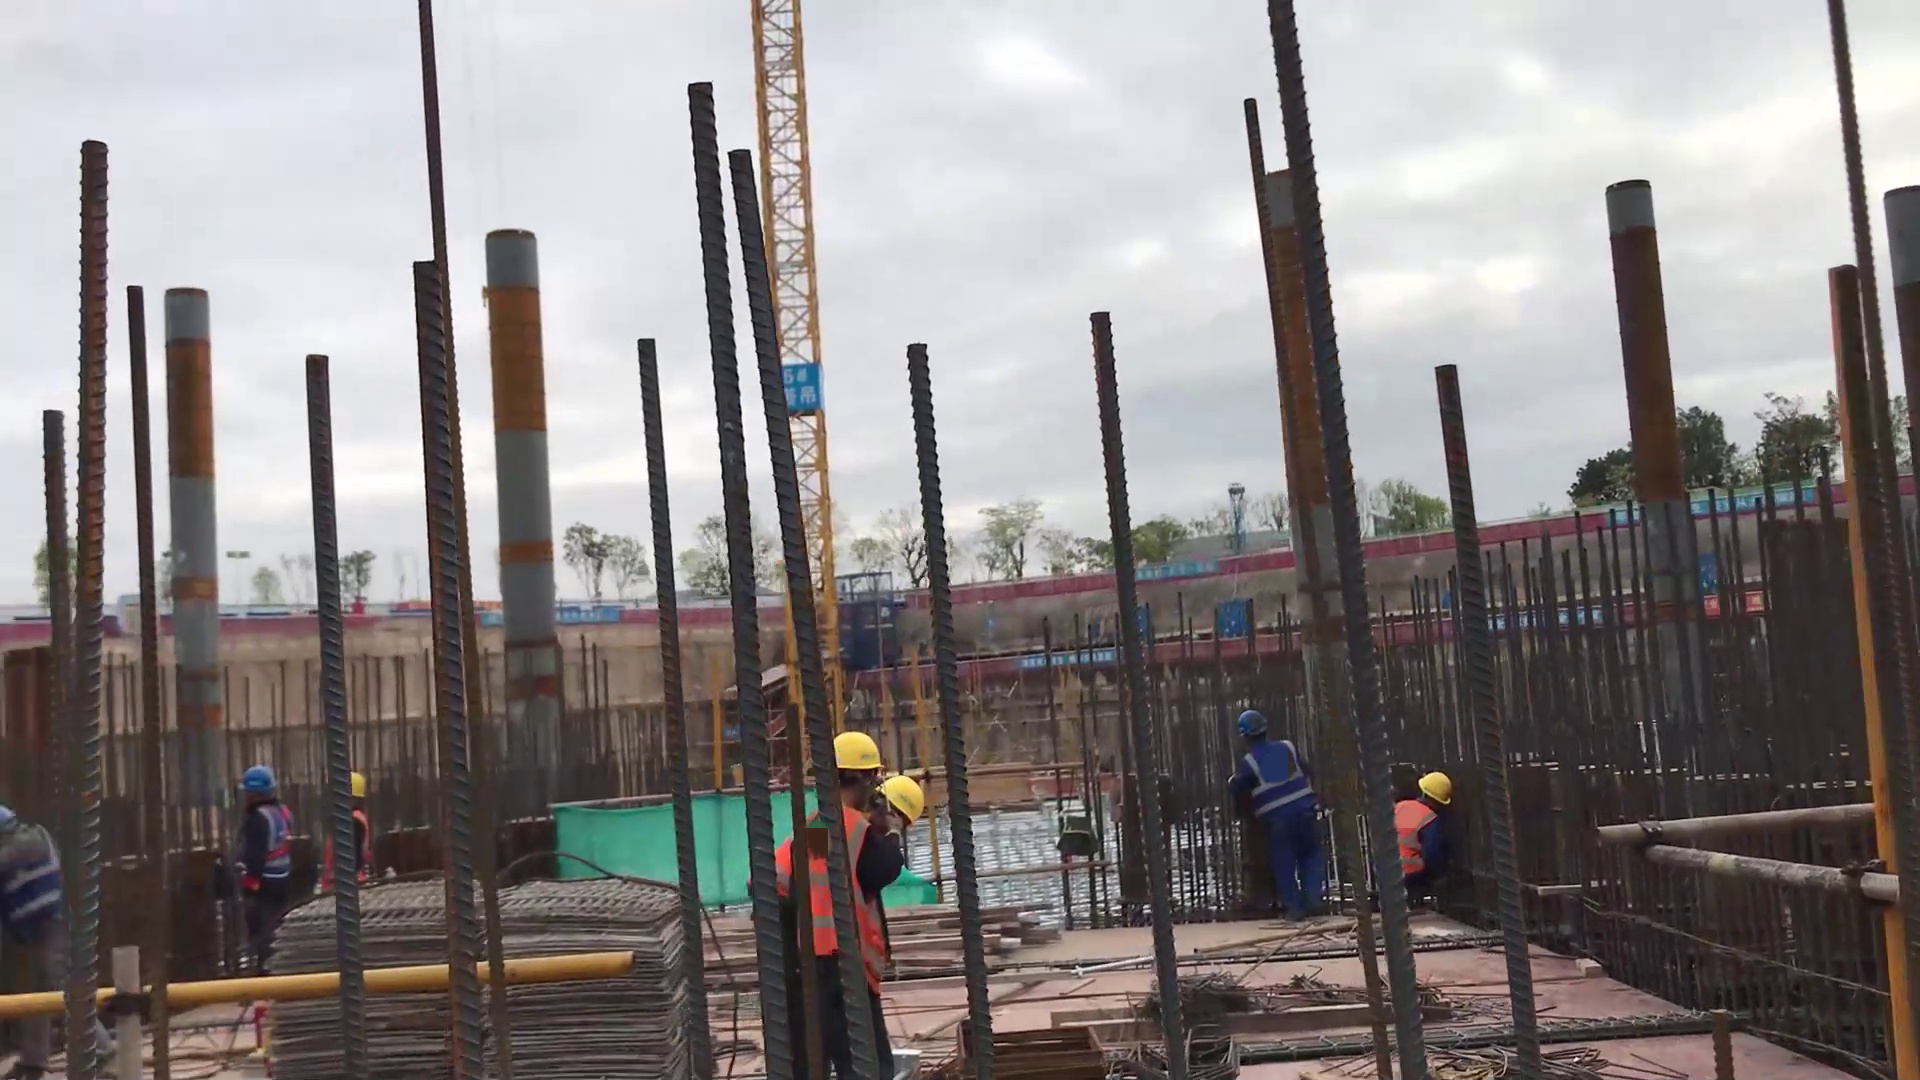helmet: (874, 770, 928, 830), (830, 728, 886, 778), (1416, 767, 1459, 807), (240, 765, 278, 797), (1235, 706, 1268, 738), (340, 768, 365, 804)
person: (752, 728, 930, 1077), (1, 805, 120, 1079), (1230, 711, 1327, 927), (231, 761, 296, 981), (1377, 768, 1455, 939), (315, 767, 372, 909)
vest: (766, 803, 903, 984), (1236, 734, 1310, 834), (238, 797, 300, 881), (1390, 796, 1428, 882)
